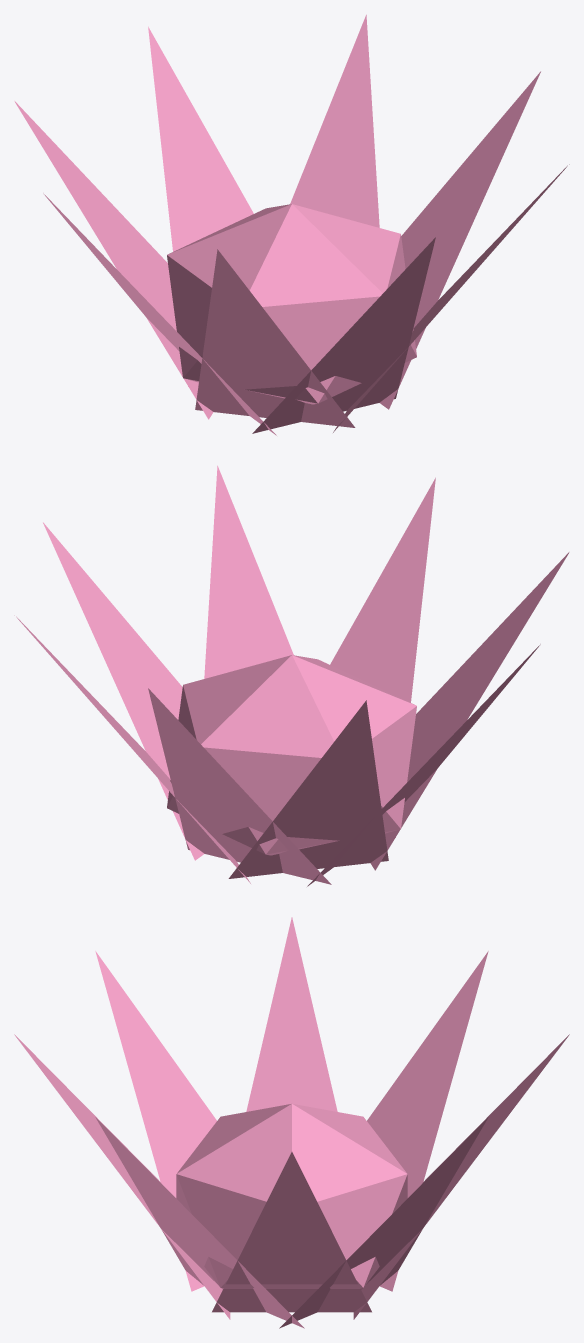
Rendered from lilies.fbx.
The picture shows the model from 3 angles, top to bottom: view 1: azimuth 30°, elevation 25°; view 2: azimuth 150°, elevation 25°; view 3: azimuth 270°, elevation 25°; orthographic projection. The views are drawn at different scales.
Parts seen in each view (by area): view 1: Lily_Flower; view 2: Lily_Flower; view 3: Lily_Flower.
Part boxes in pixels (box(x1,y1,x2,y2)): Lily_Flower: box(14, 14, 569, 435); Lily_Flower: box(14, 465, 569, 886); Lily_Flower: box(14, 917, 569, 1328).
Size of what is drawn, in the model's own units: 0.9 by 0.477 by 0.9.
